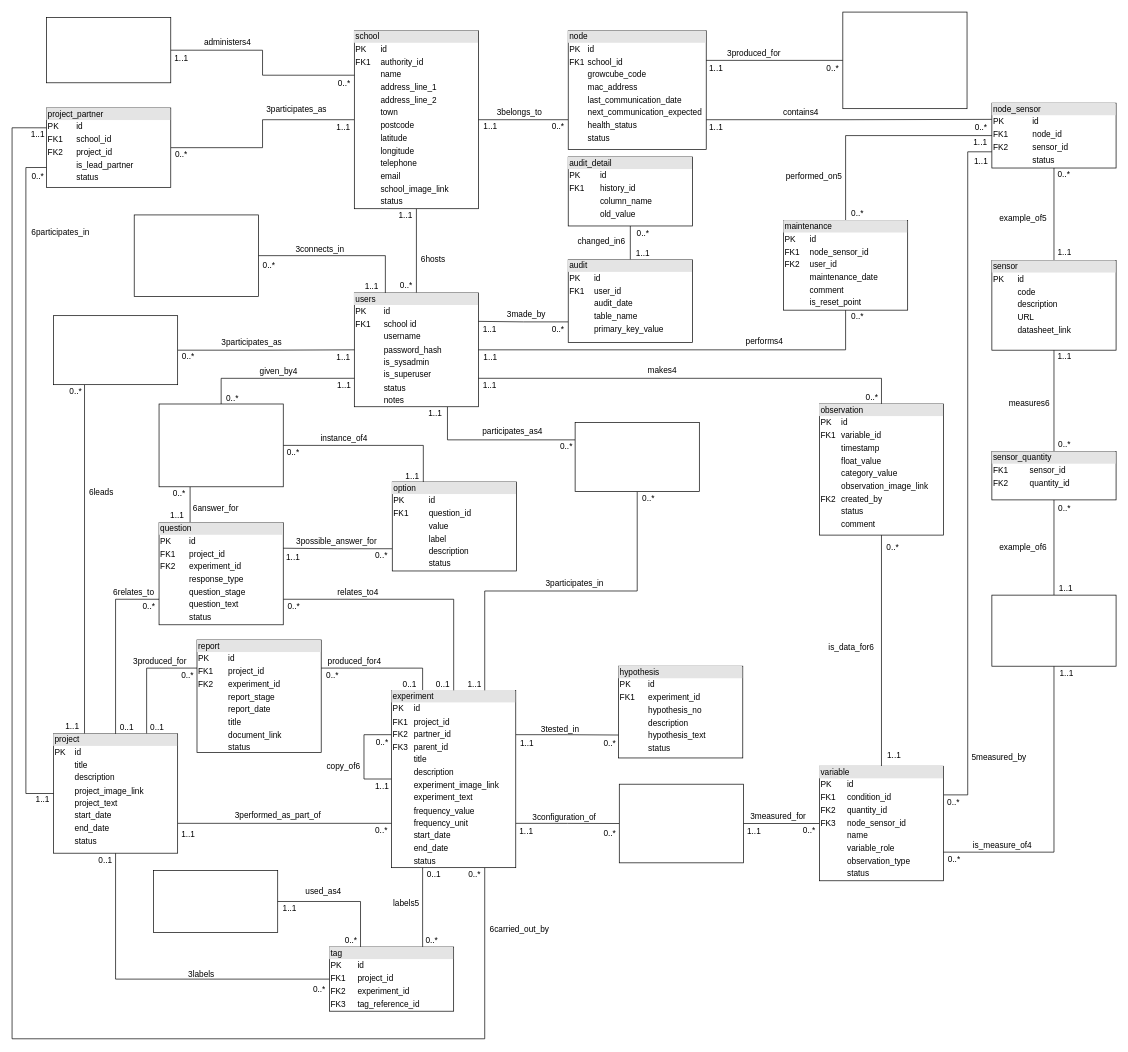
Image size: 1128x1052. Some labels were removed from this diagram. The box of each missing label's shape, as (x1, y1, x2, y2) in pixels:
authority PK id name telephone email: (46, 17, 171, 83)
condition PK id FK1 experiment_id description condition_text status: (619, 783, 743, 863)
experiment_participant PK id FK1 user_id FK2 experiment_id status: (574, 422, 699, 492)
node_alert PK id FK1 node_id description created_date updated_date status: (842, 11, 967, 109)
project_leader PK id FK1 user_id FK2 project_id status: (53, 315, 178, 385)
quantity PK id name unit help_url: (991, 594, 1116, 666)
response PK id FK1 question_id FK2 user_id FK3 option_id response_text: (158, 403, 283, 487)
session PK id FK1 user_id login_timestamp logout_timestamp is_timed_out: (134, 214, 258, 296)
tag_reference PK id label status: (153, 870, 278, 933)
